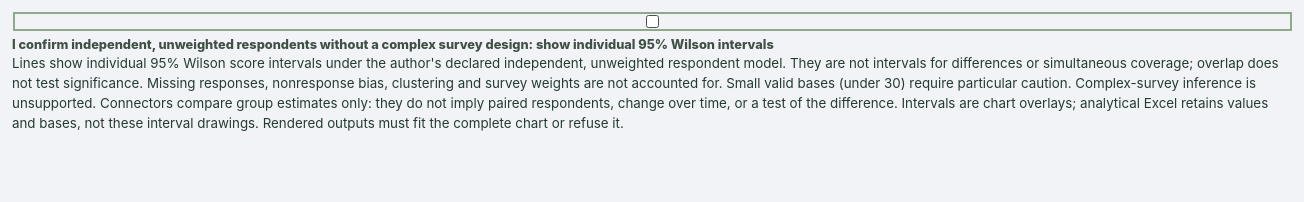
Test case: requires explicit author declaration, preserves keyboard focus and leaves unsupported count charts unchanged
Click the checkbox named "Show individual 95% Wilson intervals": (652,22) [16,15,1289,28]
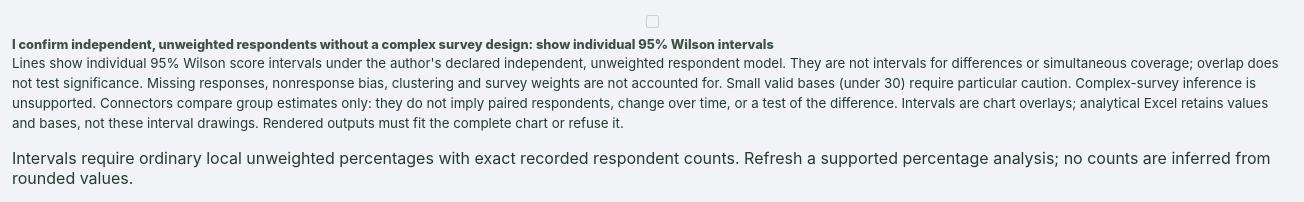
expect the text "not intervals for differences" is shown: met, box [12,55,1279,111]
expect the checkbox named "Show individual 95% Wilson intervals" is disabled: met, box [16,15,1289,28]
